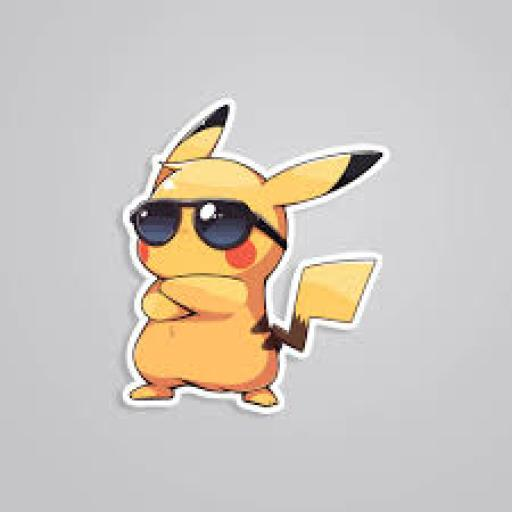Pikachu: (127, 104, 383, 408)
